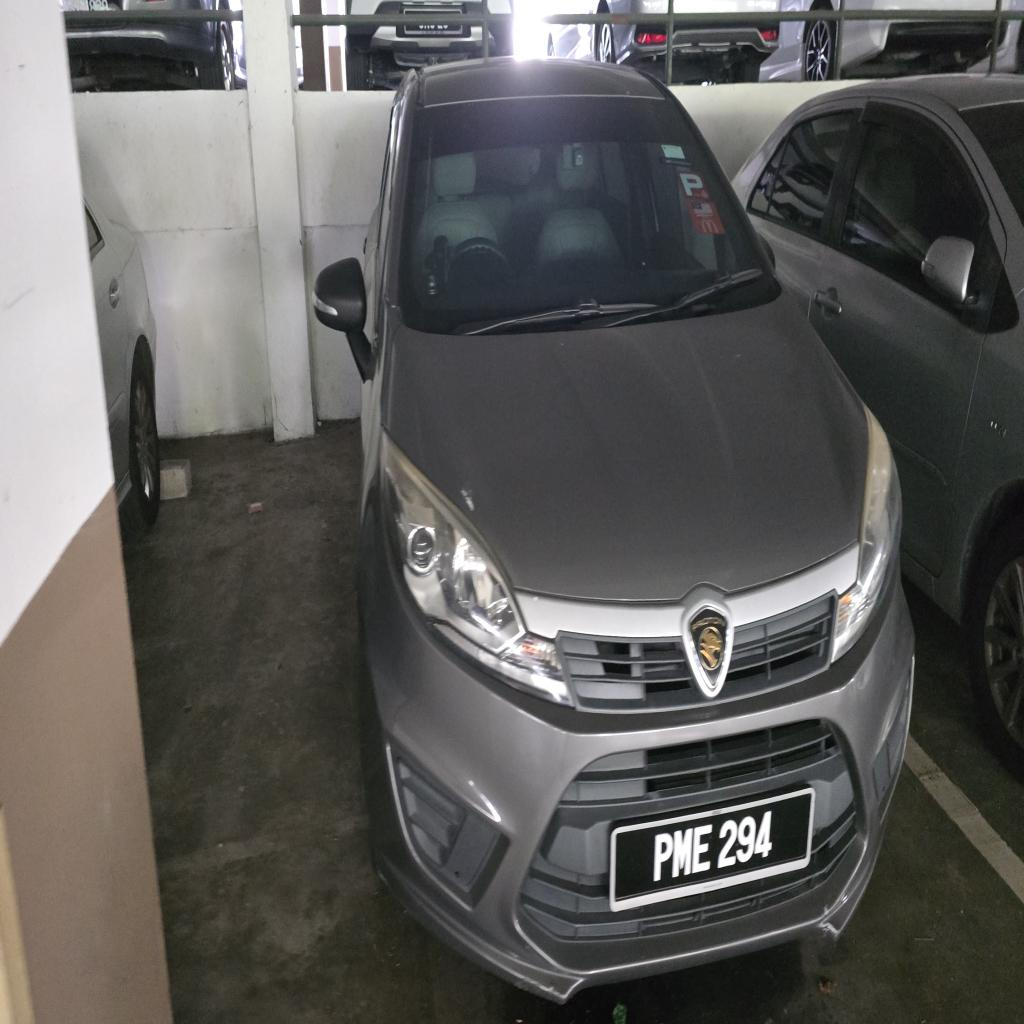car: (314, 59, 913, 999)
car plate: (610, 789, 814, 910)
